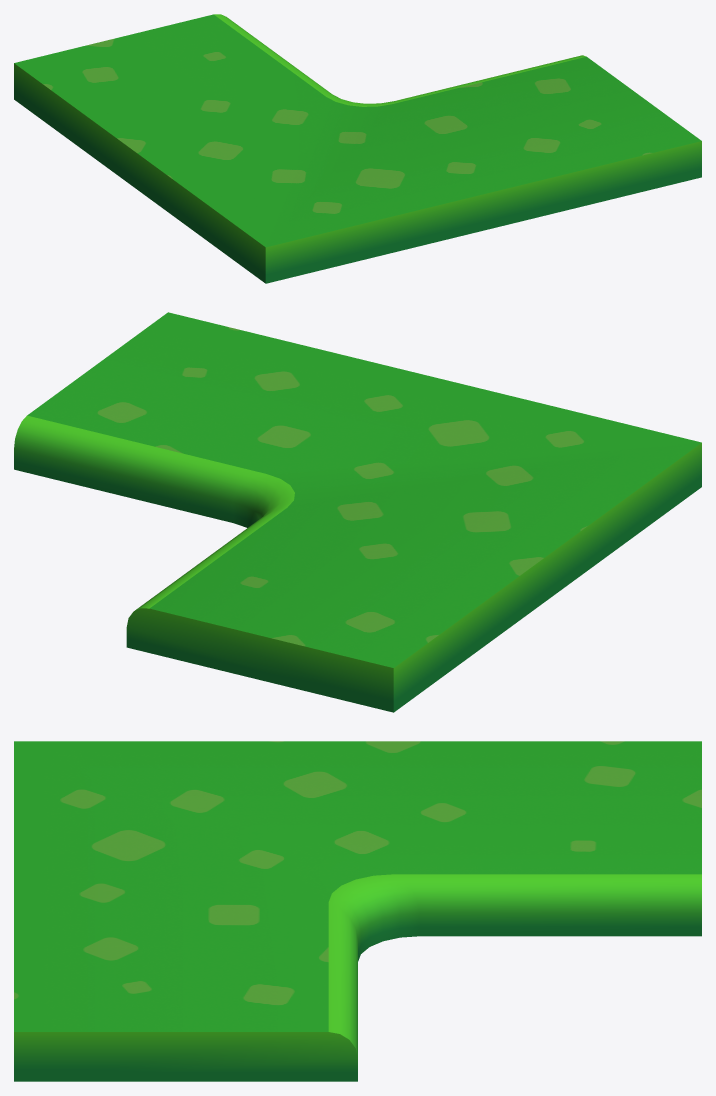
Rendered from GrassFloor_InnerCorner_3.glb.
3 renders of one model, top to bottom at view 1: azimuth 30°, elevation 25°; view 2: azimuth 150°, elevation 25°; view 3: azimuth 270°, elevation 25°, orthographic. The views are drawn at different scales.
Visible parts, largest first — view 1: GrassFloor_InnerCorner_3; view 2: GrassFloor_InnerCorner_3; view 3: GrassFloor_InnerCorner_3.
Part boxes in pixels (x1=…): GrassFloor_InnerCorner_3: x1=14, y1=14, x2=701, y2=283; GrassFloor_InnerCorner_3: x1=14, y1=312, x2=701, y2=712; GrassFloor_InnerCorner_3: x1=14, y1=741, x2=701, y2=1081.
Bounding box in the file's own units: 4 × 0.3187 × 4.
Materials: 2 (2 with a texture image).
